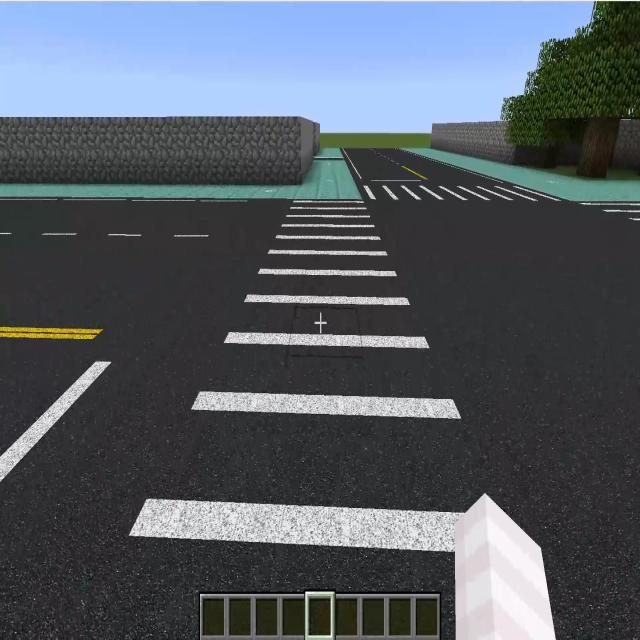crosswalk: (82, 199, 481, 639), (361, 183, 563, 200), (568, 203, 639, 220)
road: (0, 200, 289, 638), (370, 204, 640, 639), (340, 148, 515, 185), (313, 158, 346, 161)
sidewalk: (0, 160, 360, 198), (399, 148, 640, 201), (314, 148, 344, 158)
